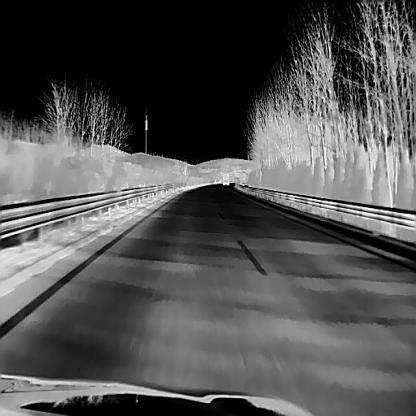car: (221, 172, 229, 185)
